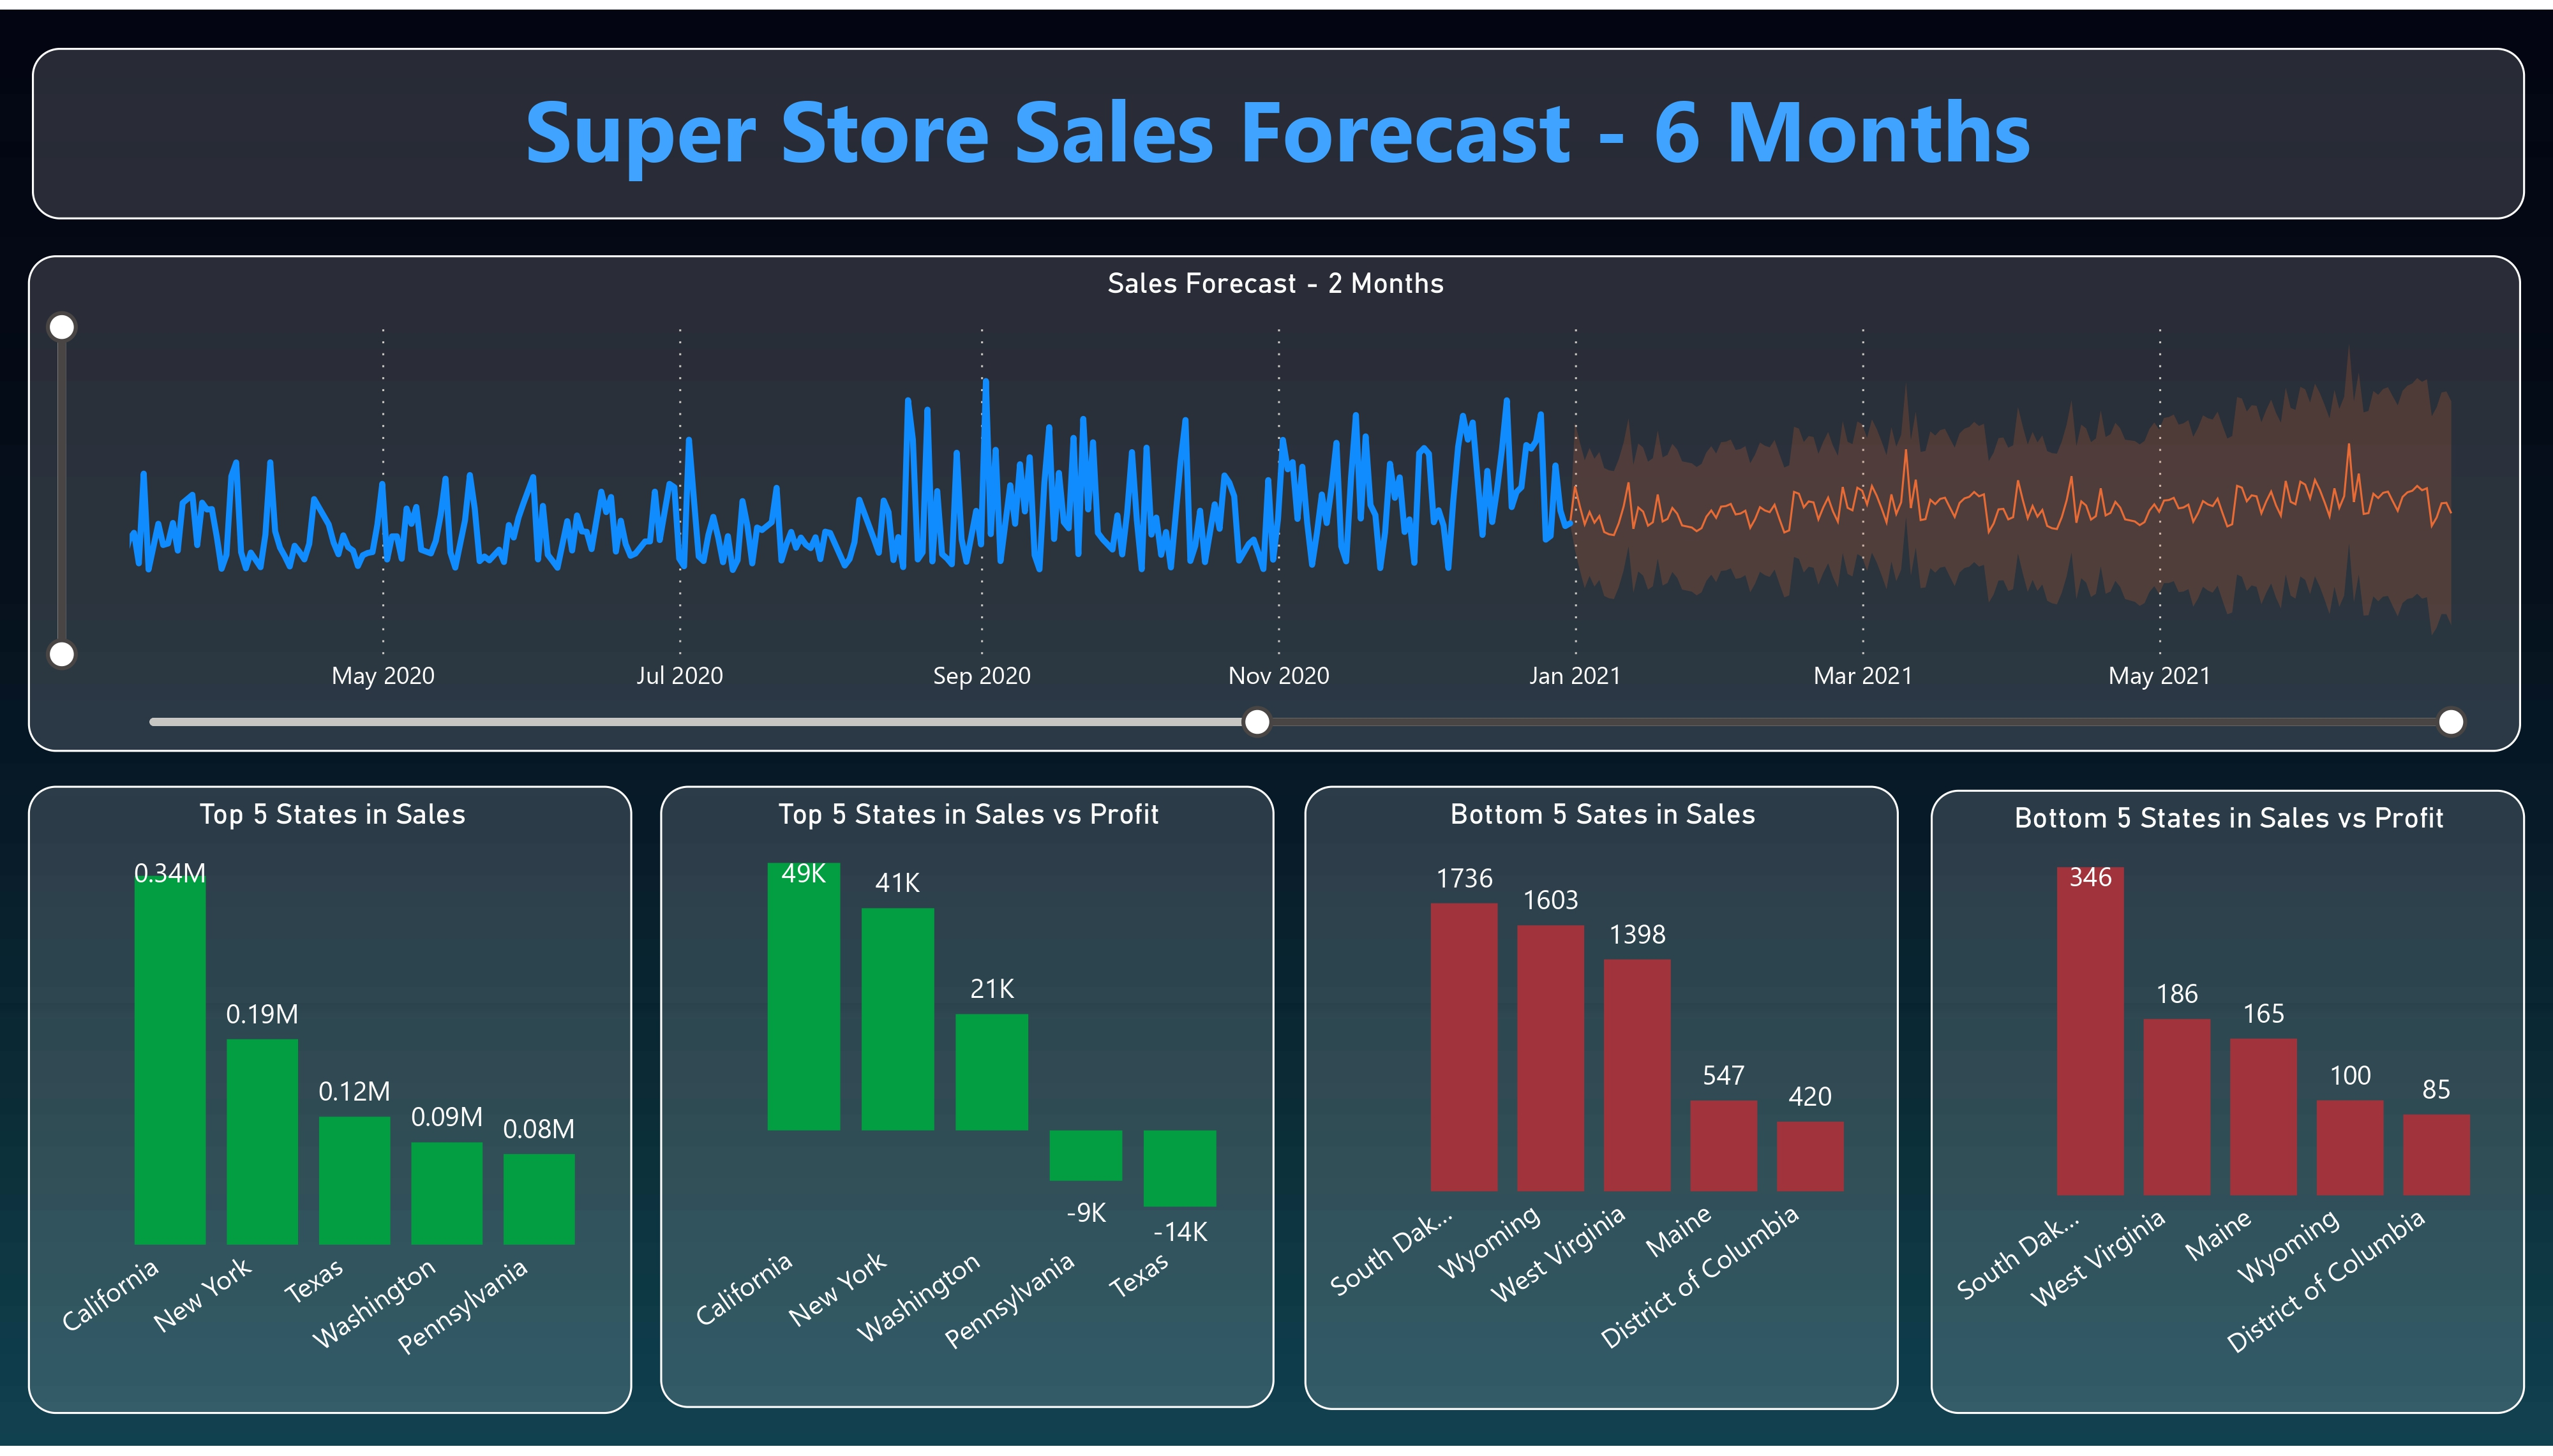

The page's visual inventory and layout, read from the dashboard file:
{"tool":"powerbi","page":{"name":"Super Store Sales Forecast","canvas":[1280,720],"ordinal":1},"visuals":[{"type":"textbox","box":[15.7,18.6,1249.6,85.9],"z":1},{"type":"lineChart","title":"Sales Forecast - 2 Months","fields":{"Y":["Sum(SuperStore_Sales_Dataset.Sales)"],"Category":["SuperStore_Sales_Dataset.Order Date"]},"box":[14.2,122.8,1249.6,248.7],"z":3},{"type":"columnChart","title":"Top 5 States in Sales","fields":{"Category":["SuperStore_Sales_Dataset.State"],"Y":["Sum(SuperStore_Sales_Dataset.Sales)"]},"box":[14.3,389.3,303.5,314.9],"z":4},{"type":"columnChart","title":"Bottom 5 Sates in Sales","fields":{"Category":["SuperStore_Sales_Dataset.State"],"Y":["Sum(SuperStore_Sales_Dataset.Sales)"]},"box":[654.2,389.3,297.7,313.5],"z":5},{"type":"columnChart","title":"Top 5 States in Sales vs Profit","fields":{"Category":["SuperStore_Sales_Dataset.State"],"Y":["Sum(SuperStore_Sales_Dataset.Profit)"]},"box":[330.7,389.3,307.8,312],"z":6},{"type":"columnChart","title":"Bottom 5 States in Sales vs Profit","fields":{"Category":["SuperStore_Sales_Dataset.State"],"Y":["Sum(SuperStore_Sales_Dataset.Profit)"]},"box":[967.6,390.8,297.7,313.5],"z":7}]}

Visuals, with their boxes in screenshot pixels (x1, y1, x2, y2), scaled from the page's 1280x720 canvas onto the 2553x1456 screenshot:
textbox: box=[31, 38, 2524, 211]
"Sales Forecast - 2 Months" lineChart: box=[28, 248, 2520, 751]
"Top 5 States in Sales" columnChart: box=[29, 787, 634, 1424]
"Bottom 5 Sates in Sales" columnChart: box=[1305, 787, 1899, 1421]
"Top 5 States in Sales vs Profit" columnChart: box=[659, 787, 1273, 1418]
"Bottom 5 States in Sales vs Profit" columnChart: box=[1930, 791, 2524, 1424]
